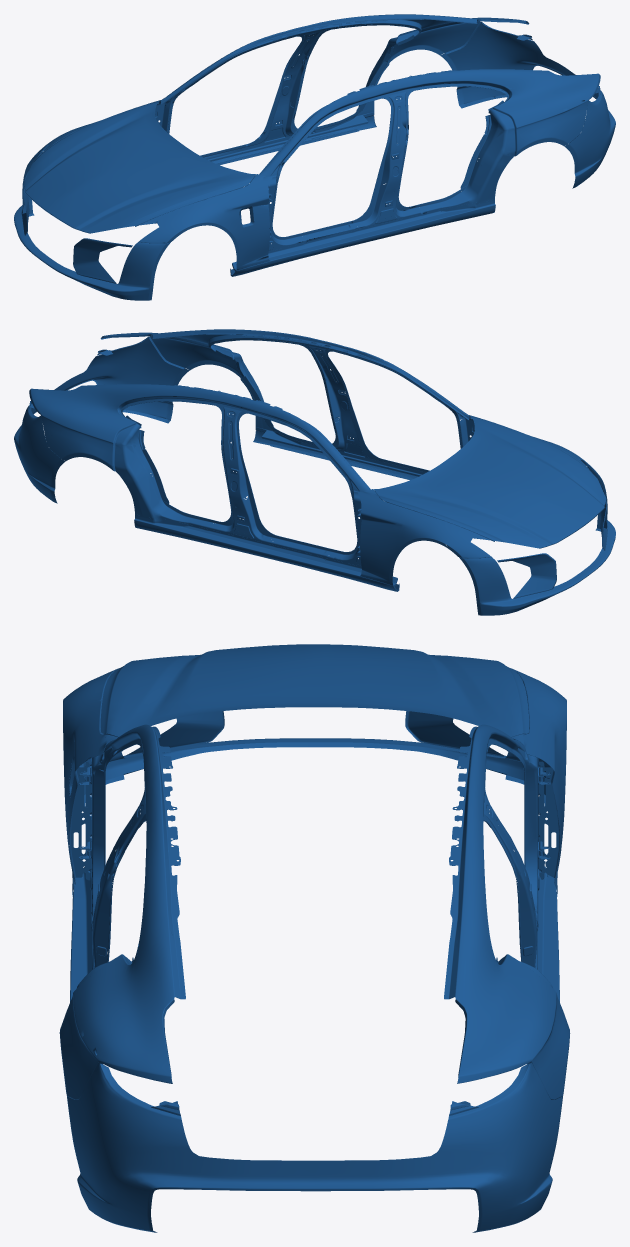
File: Car_Body_Front_Trunk.glb
3 views of the same model, one above another, from view 1: azimuth 30°, elevation 25°; view 2: azimuth 150°, elevation 25°; view 3: azimuth 270°, elevation 25° (orthographic). The views are drawn at different scales.
Parts seen in each view (by area): view 1: Car_Body, Car_Front_Trunk; view 2: Car_Body, Car_Front_Trunk; view 3: Car_Body, Car_Front_Trunk.
Boxes of the visible parts, left/top/right/bottom form: Car_Body: left=14, top=14, right=615, bottom=300; Car_Front_Trunk: left=23, top=102, right=255, bottom=233; Car_Body: left=14, top=329, right=615, bottom=615; Car_Front_Trunk: left=374, top=417, right=606, bottom=548; Car_Body: left=59, top=668, right=570, bottom=1232; Car_Front_Trunk: left=100, top=644, right=529, bottom=736.
Size of the model in its own units: 4.9 by 1.22 by 2.
